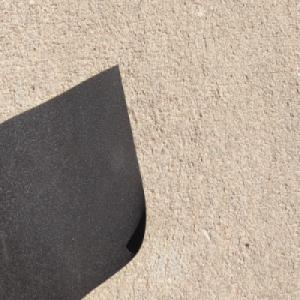PaintChip: (0, 58, 152, 300)
